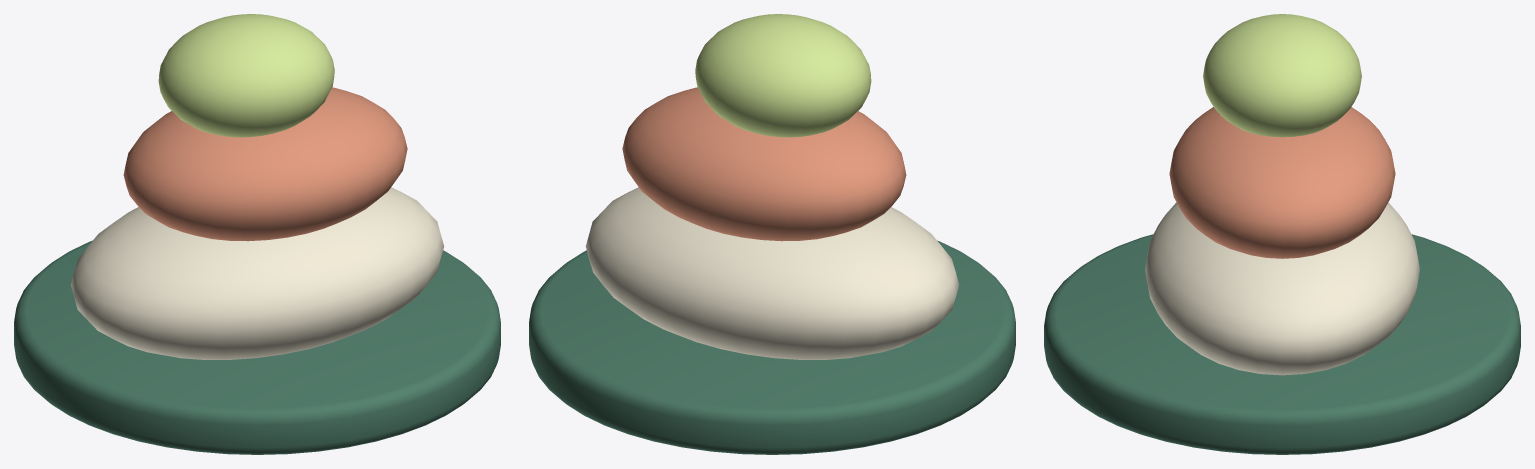
File: balance-stones.glb
The picture shows the model from 3 angles, left to right: view 1: azimuth 30°, elevation 25°; view 2: azimuth 150°, elevation 25°; view 3: azimuth 270°, elevation 25°; orthographic projection. The views are drawn at different scales.
Visible parts, largest first — view 1: Plinth, Foundation, Middle, Top; view 2: Plinth, Foundation, Middle, Top; view 3: Plinth, Foundation, Middle, Top.
Part boxes in pixels (<box>): Plinth: <box>14,240,500,454</box>; Foundation: <box>71,187,444,359</box>; Middle: <box>123,87,407,241</box>; Top: <box>158,14,334,137</box>; Plinth: <box>529,240,1015,454</box>; Foundation: <box>585,187,958,359</box>; Middle: <box>622,87,906,241</box>; Top: <box>695,14,871,137</box>; Plinth: <box>1044,234,1520,454</box>; Foundation: <box>1145,202,1419,375</box>; Middle: <box>1169,107,1395,258</box>; Top: <box>1203,14,1361,137</box>.
Size of the model in its own units: 1.56 by 1.18 by 1.56.
